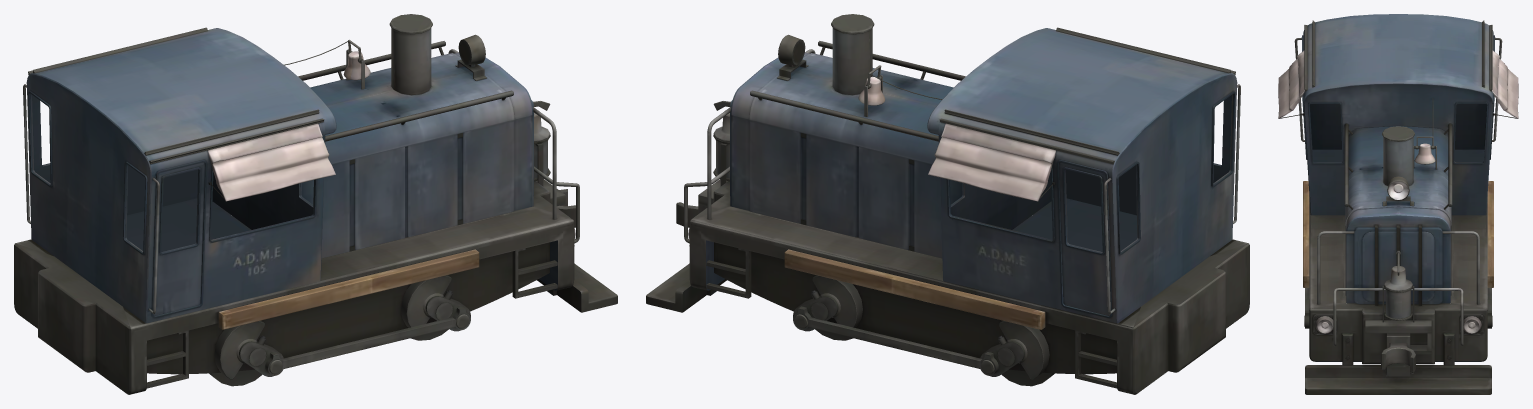
3 views of the same model, side by side, from view 1: azimuth 30°, elevation 25°; view 2: azimuth 150°, elevation 25°; view 3: azimuth 270°, elevation 25° (orthographic). The views are drawn at different scales.
Parts seen in each view (by area): view 1: body0_model0_lod0_mesh0, body0_model0_lod0_mesh1; view 2: body0_model0_lod0_mesh0, body0_model0_lod0_mesh1; view 3: body0_model0_lod0_mesh0, body0_model0_lod0_mesh1.
Boxes of the visible parts, x1,y1,x2,y2 form: body0_model0_lod0_mesh0: [14, 27, 617, 394]; body0_model0_lod0_mesh1: [23, 14, 579, 386]; body0_model0_lod0_mesh0: [646, 27, 1249, 394]; body0_model0_lod0_mesh1: [676, 14, 1240, 386]; body0_model0_lod0_mesh0: [1278, 14, 1518, 394]; body0_model0_lod0_mesh1: [1294, 35, 1502, 376].
Bounding box in the file's own units: 396 × 204 × 209.
Materials: 2 (2 with a texture image).
